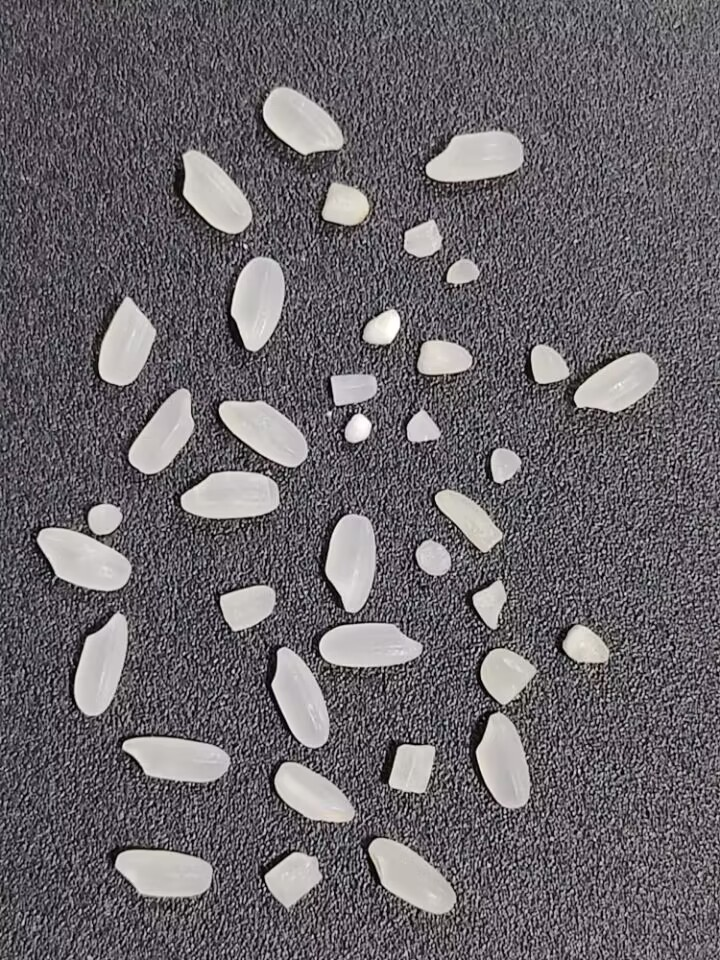broken: (479, 646, 537, 709), (262, 851, 323, 908), (218, 584, 278, 632), (388, 742, 437, 795), (556, 622, 611, 667), (318, 368, 382, 406), (322, 178, 370, 226), (415, 338, 473, 376), (356, 305, 407, 347), (470, 577, 509, 631), (527, 342, 572, 387), (401, 218, 446, 261), (400, 405, 445, 448), (414, 540, 454, 580), (438, 255, 485, 289), (485, 446, 522, 488), (86, 501, 125, 535), (342, 413, 372, 442)
rice: (265, 642, 334, 754), (212, 396, 312, 472), (33, 524, 134, 593), (368, 837, 457, 914), (321, 508, 384, 615), (179, 146, 254, 235), (71, 609, 132, 717), (473, 710, 535, 813), (310, 618, 426, 673), (260, 86, 346, 159), (127, 388, 196, 475), (572, 349, 661, 415), (230, 254, 287, 357), (424, 130, 526, 184), (273, 760, 356, 825), (120, 735, 232, 783), (97, 297, 157, 386), (431, 487, 506, 556), (179, 469, 282, 519), (111, 850, 215, 898)
